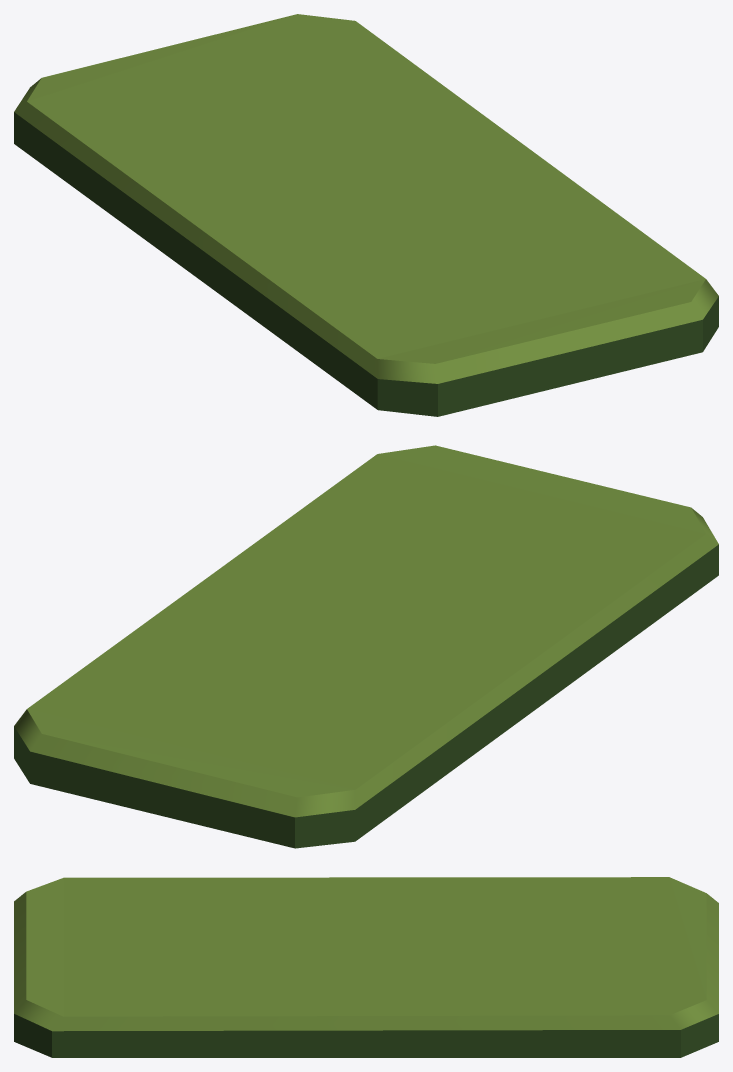
Rendered from gf_paver_tall.glb.
The picture shows the model from 3 angles, top to bottom: view 1: azimuth 30°, elevation 25°; view 2: azimuth 150°, elevation 25°; view 3: azimuth 270°, elevation 25°; orthographic projection. The views are drawn at different scales.
Parts seen in each view (by area): view 1: gf_paver_tall; view 2: gf_paver_tall; view 3: gf_paver_tall.
Boxes of the visible parts, left/top/right/bottom form: gf_paver_tall: left=14, top=14, right=718, bottom=416; gf_paver_tall: left=14, top=445, right=718, bottom=848; gf_paver_tall: left=14, top=877, right=718, bottom=1057.
Bounding box in the file's own units: 0.43 × 0.0562 × 0.89.
